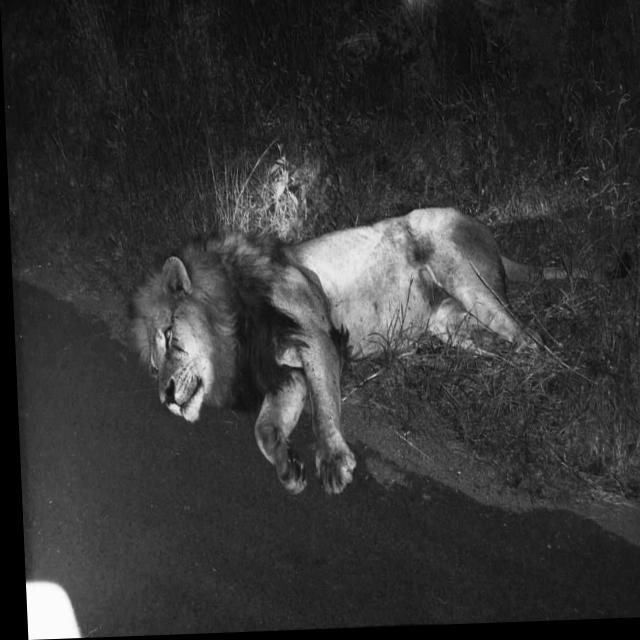Lion: (136, 207, 585, 495)
